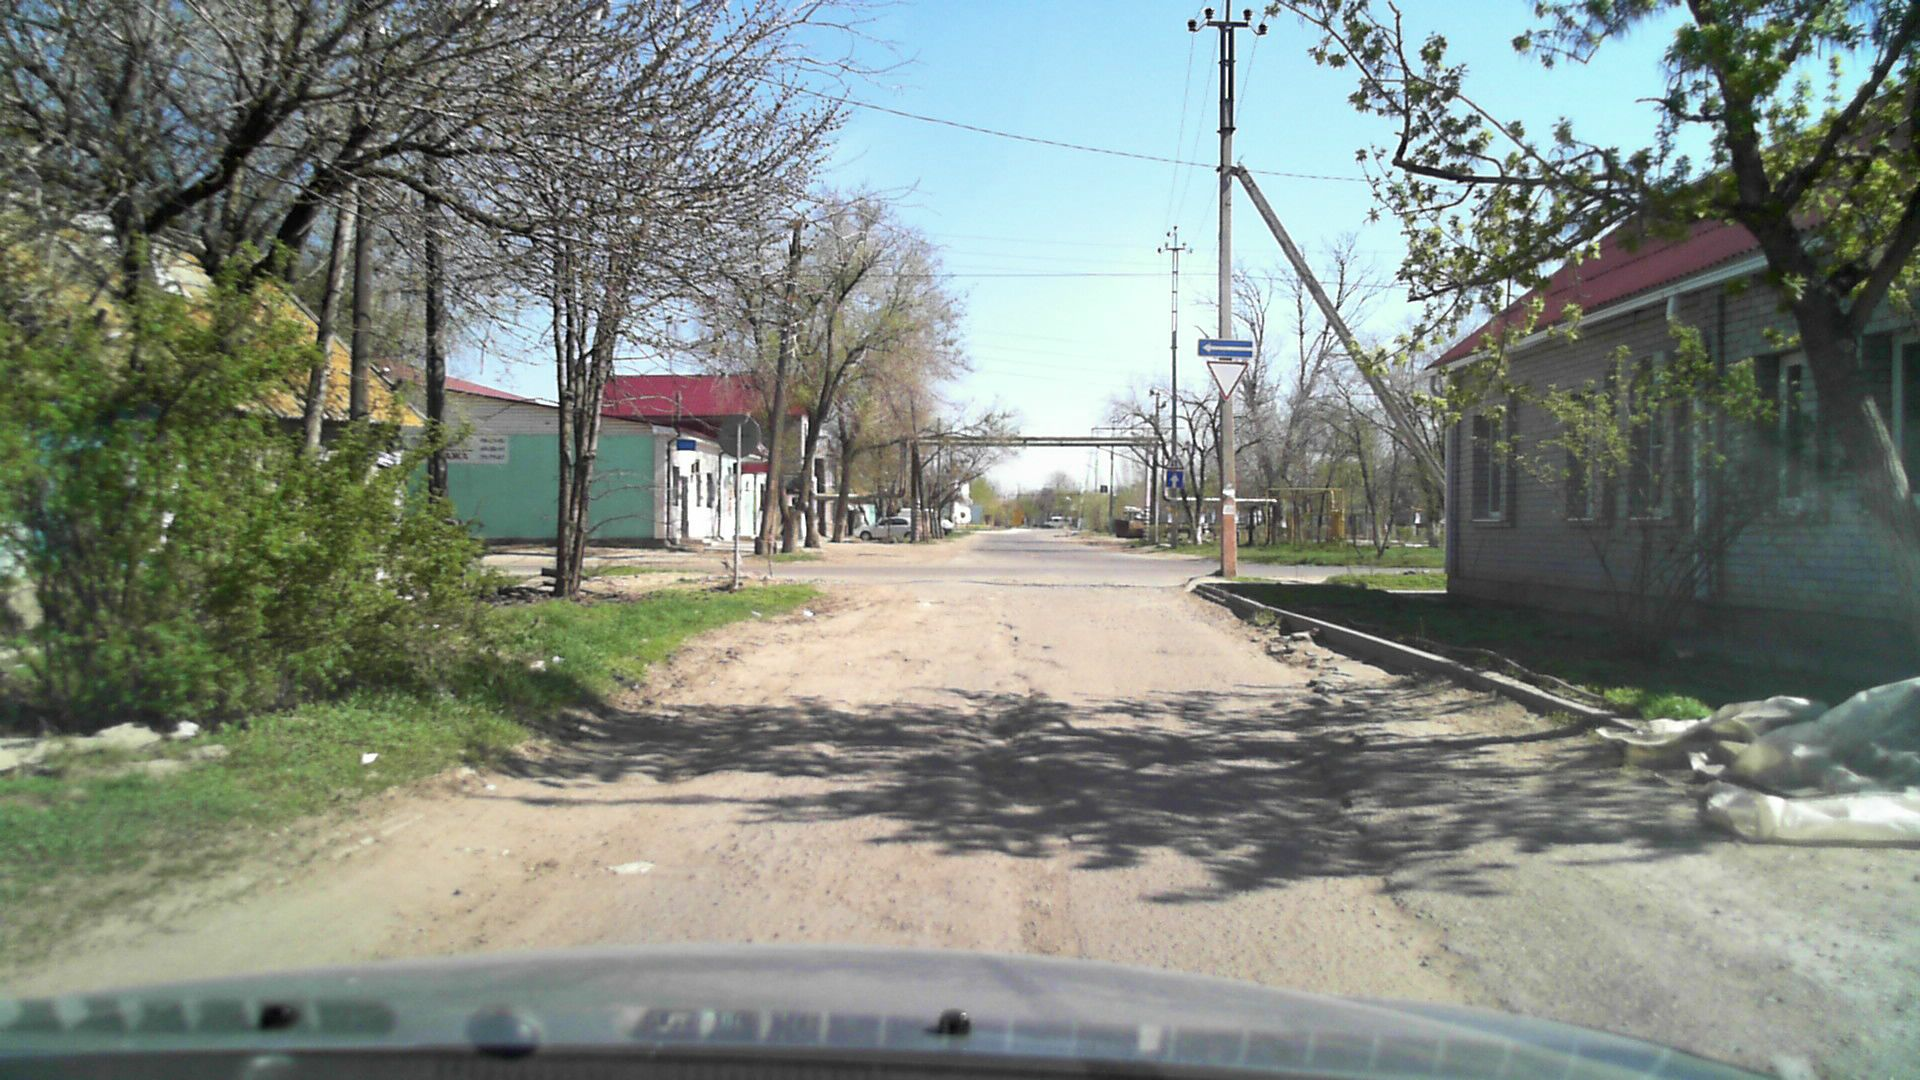One-Way Traffic: (1197, 338, 1253, 357)
